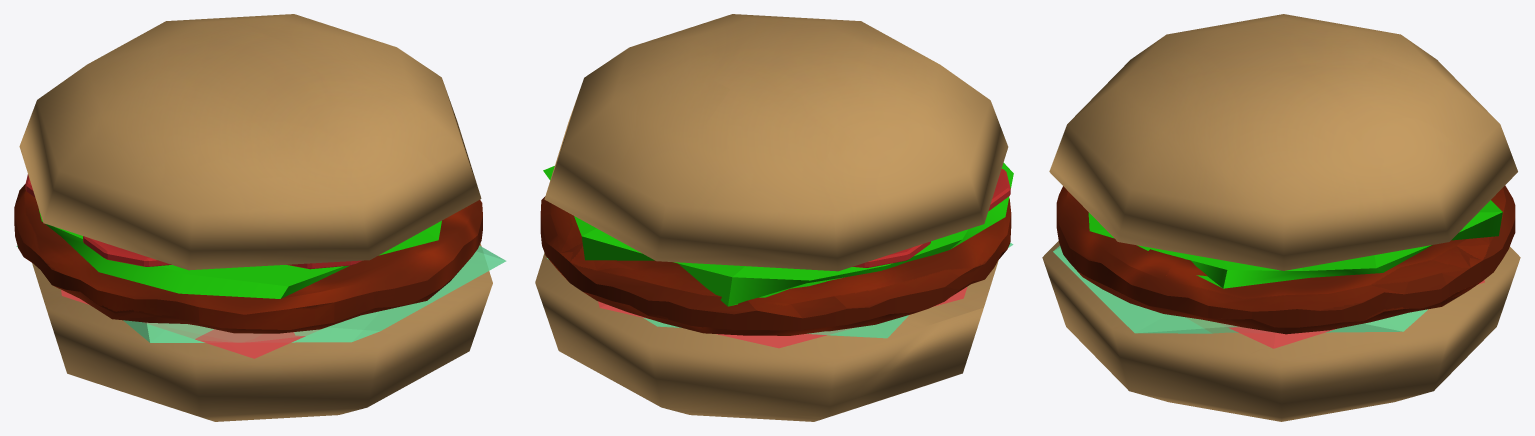
Rendered from Burger.fbx.
3 views of the same model, side by side, from view 1: azimuth 30°, elevation 25°; view 2: azimuth 150°, elevation 25°; view 3: azimuth 270°, elevation 25° (orthographic). The views are drawn at different scales.
Parts seen in each view (by area): view 1: TopBun, BunBottum, Patty, Salad, Gruul, Ketchup, Tomato; view 2: TopBun, BunBottum, Patty, Salad, Ketchup, Tomato, Gruul; view 3: TopBun, BunBottum, Patty, Salad, Gruul, Ketchup.
Boxes of the visible parts, x1,y1,x2,y2 form: TopBun: (19,14,481,270); BunBottum: (32,243,492,421); Patty: (14,184,482,333); Salad: (39,210,441,298); Gruul: (16,245,506,342); Ketchup: (61,289,318,358); Tomato: (25,174,361,269); TopBun: (544,14,1008,271); BunBottum: (535,253,998,421); Patty: (540,196,1011,335); Salad: (543,162,1013,306); Ketchup: (598,287,967,348); Tomato: (852,169,1010,267); Gruul: (547,242,1013,338); TopBun: (1049,14,1517,270); BunBottum: (1042,241,1520,421); Patty: (1056,185,1515,334); Salad: (1088,200,1502,288); Gruul: (1053,246,1427,333); Ketchup: (1219,280,1484,348).
Size of the model in its own units: 23.07 by 16.66 by 22.99.
